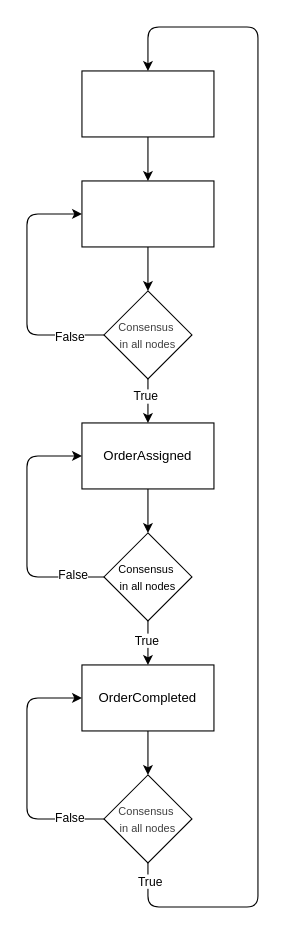
The diagram is 286 pixels wide and 935 high, and some of its shapes have lost their labels. The box of each missing label's shape, as (x1, y1, x2, y2) in pixels:
Idle: (81, 70, 214, 137)
OrderPending: (81, 180, 214, 247)
